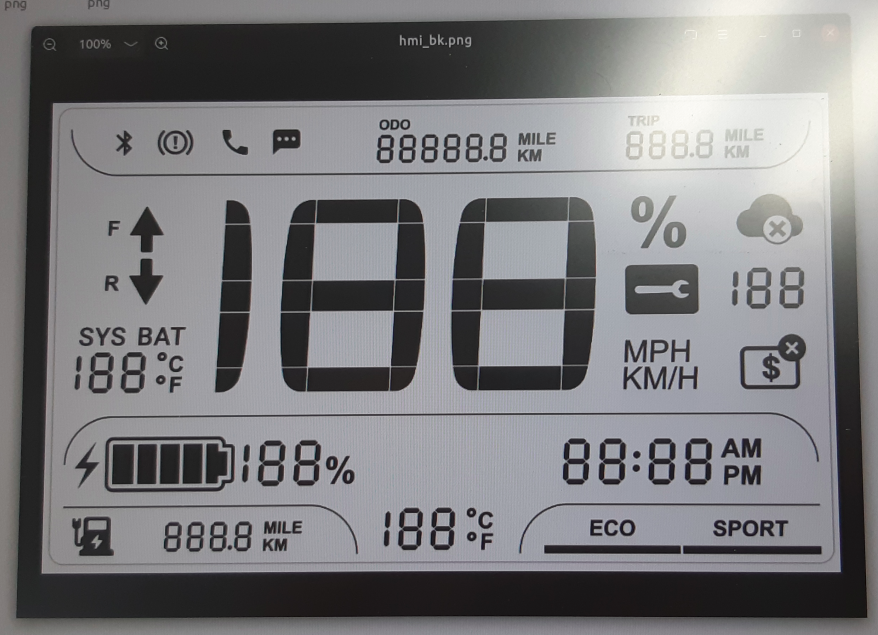bluetooth_on: (111, 127, 137, 158)
braking_on: (154, 125, 196, 159)
calling_on: (216, 126, 254, 160)
connection_lost: (734, 191, 807, 247)
error_code: (622, 261, 701, 317)
low_battery: (71, 513, 117, 560)
sms_on: (269, 126, 305, 158)
vin_id: (737, 332, 808, 392)
